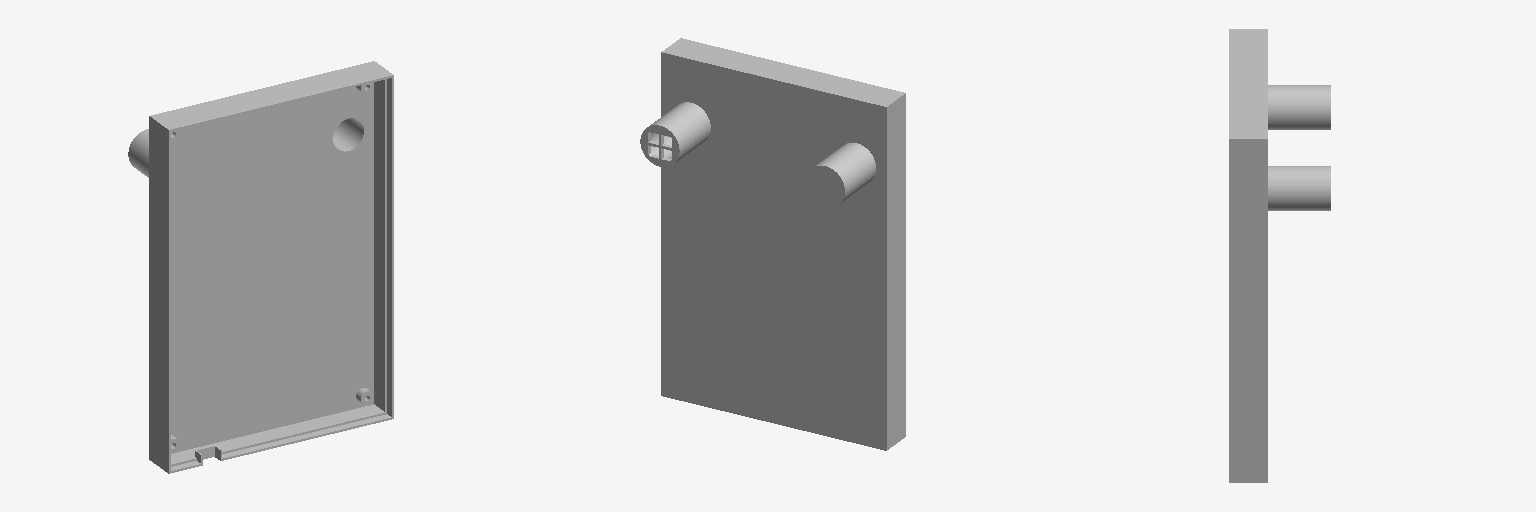
File: Obudowa tył.obj
3 views of the same model, side by side, from view 1: azimuth 30°, elevation 25°; view 2: azimuth 150°, elevation 25°; view 3: azimuth 270°, elevation 25° (orthographic).
Visible parts, largest first — view 1: Podstawa; view 2: Podstawa; view 3: Podstawa.
Part boxes in pixels (bbox=[...]): Podstawa: bbox=[128, 61, 393, 473]; Podstawa: bbox=[640, 38, 905, 450]; Podstawa: bbox=[1229, 29, 1330, 482].
Bounding box in the file's own units: 87.2 × 127 × 34.